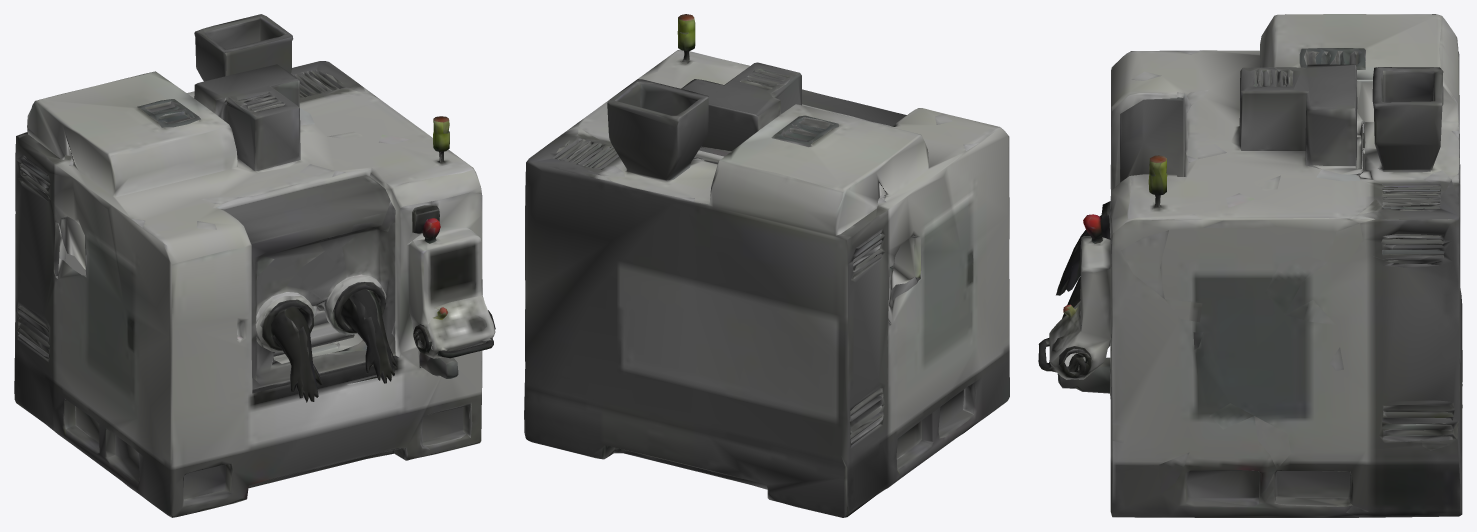
Rendered from powder_station.glb.
The picture shows the model from 3 angles, left to right: view 1: azimuth 30°, elevation 25°; view 2: azimuth 150°, elevation 25°; view 3: azimuth 270°, elevation 25°; orthographic projection. The views are drawn at different scales.
Visible parts, largest first — view 1: geometry_0; view 2: geometry_0; view 3: geometry_0.
Part boxes in pixels (box(x1,y1,x2,y2)): geometry_0: box(14, 14, 495, 517); geometry_0: box(524, 14, 1009, 517); geometry_0: box(1038, 14, 1462, 517).
Size of the model in its own units: 0.9618 by 0.9846 by 1.
Materials: 1 (1 with a texture image).
